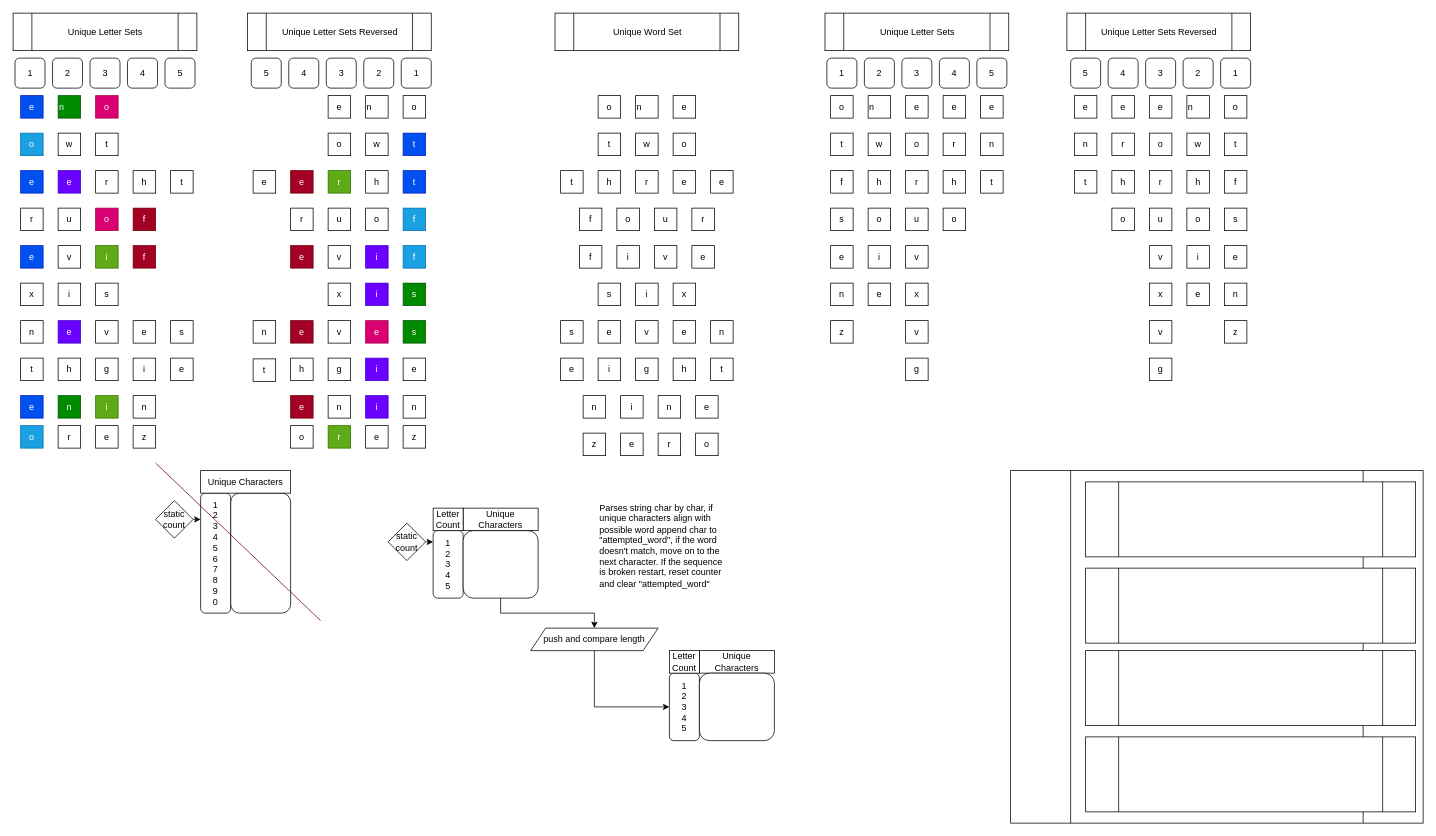
Image size: 1436x836. Some labels were removed from this diagram. Each missing label, with the centre of its shape:
"e,n,e,e,e t,w,o,r,n f,h,r,h,t s,o,u e,i,v n,e,x t, ' ', v ' ',' ',g ' ',' ',n" belongs at pixel 260 552.
"o,t,f,s,e,n,z n,w,h,o,i,e, e,o,r,u,v,x,v,g,r e,r,h,o e,n,r" belongs at pixel 500 564.
"one.two.six zero,four,five,nine three,seven,eight" belongs at pixel 736 706.
